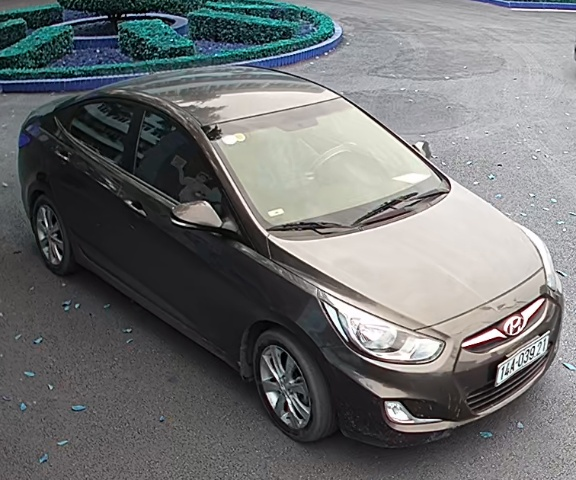vehicle plate: (481, 328, 560, 386)
